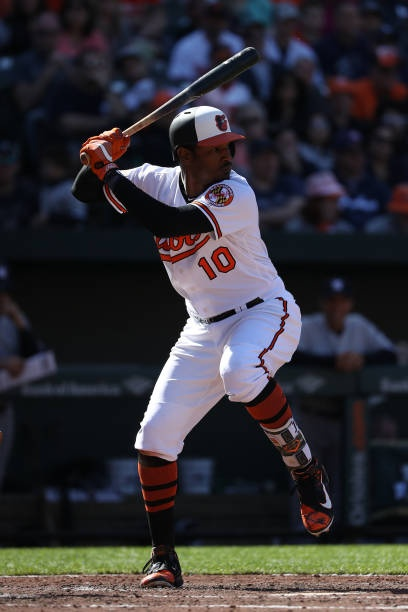bita: (89, 47, 257, 153)
